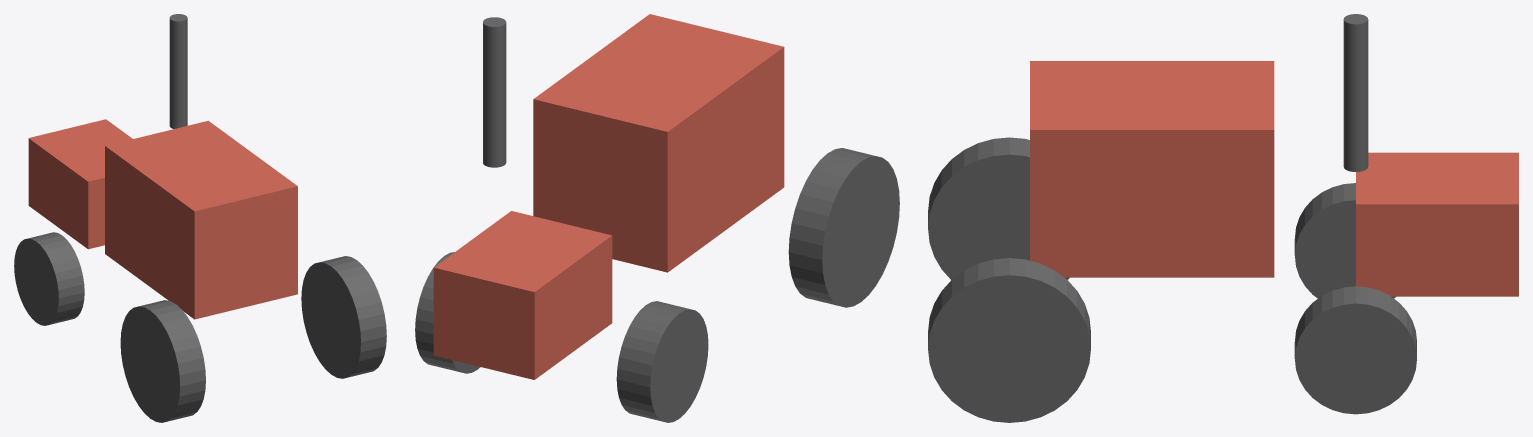
File: tractor.glb
3 views of the same model, side by side, from view 1: azimuth 30°, elevation 25°; view 2: azimuth 150°, elevation 25°; view 3: azimuth 270°, elevation 25° (orthographic). The views are drawn at different scales.
Parts seen in each view (by area): view 1: Exhaust; view 2: Exhaust; view 3: Exhaust.
Boxes of the visible parts, box(x1,y1,x2,y2) form: Exhaust: box(14, 14, 386, 422); Exhaust: box(415, 14, 899, 422); Exhaust: box(928, 14, 1518, 422).
Size of the model in its own units: 0.8 by 1 by 1.45.
